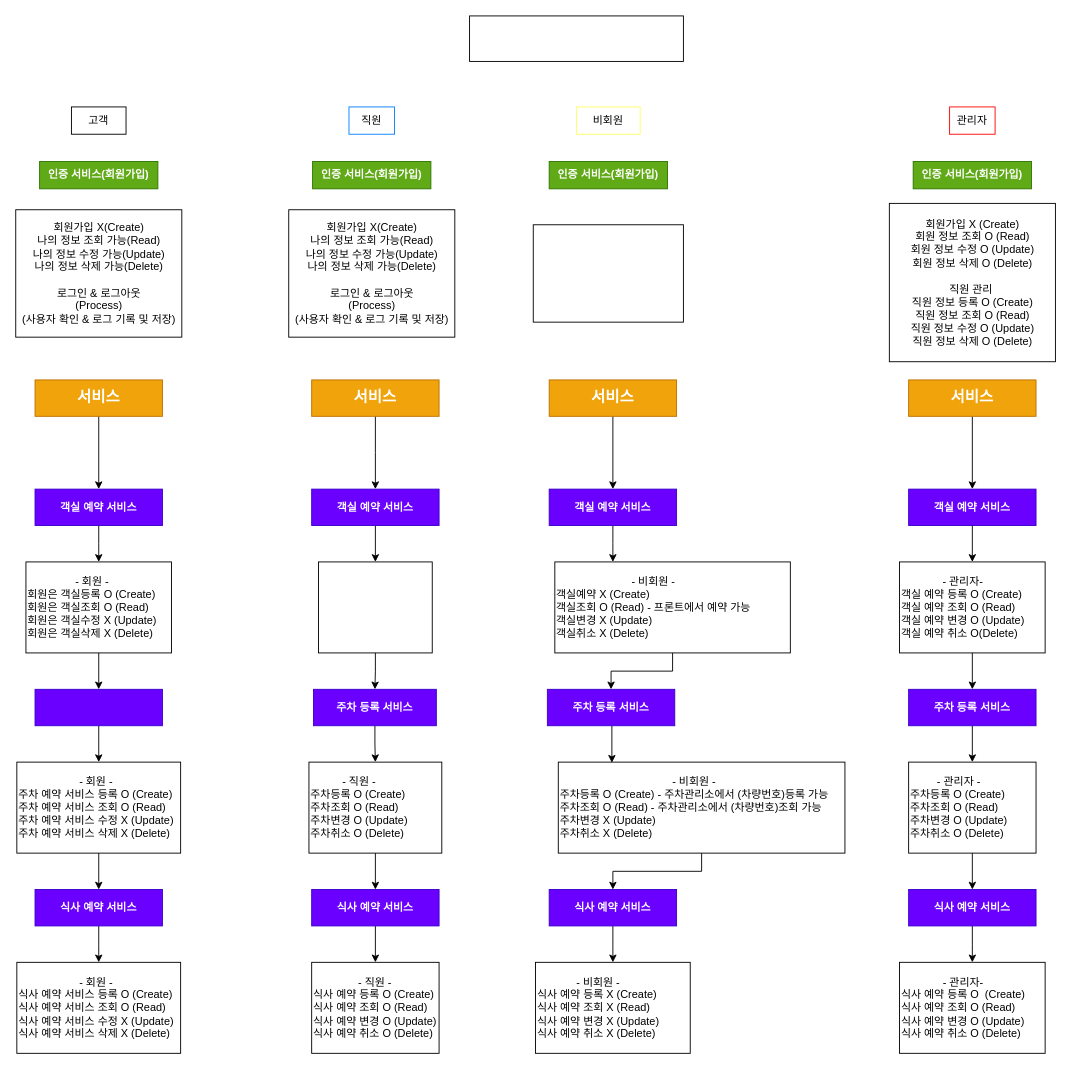
This 1072x1069 diagram has some shape labels left out. Each missing label, with the centre of its shape:
-직원- 객실등록O(Create) 객실조회O(Read) 객실변경O(Update) 객실취소O(Delete): point 375,607
주차 예약 서비스: point 98,707
호텔 서비스 프로그램: point 576,38
회원가입 가능(Create): point 607,273
